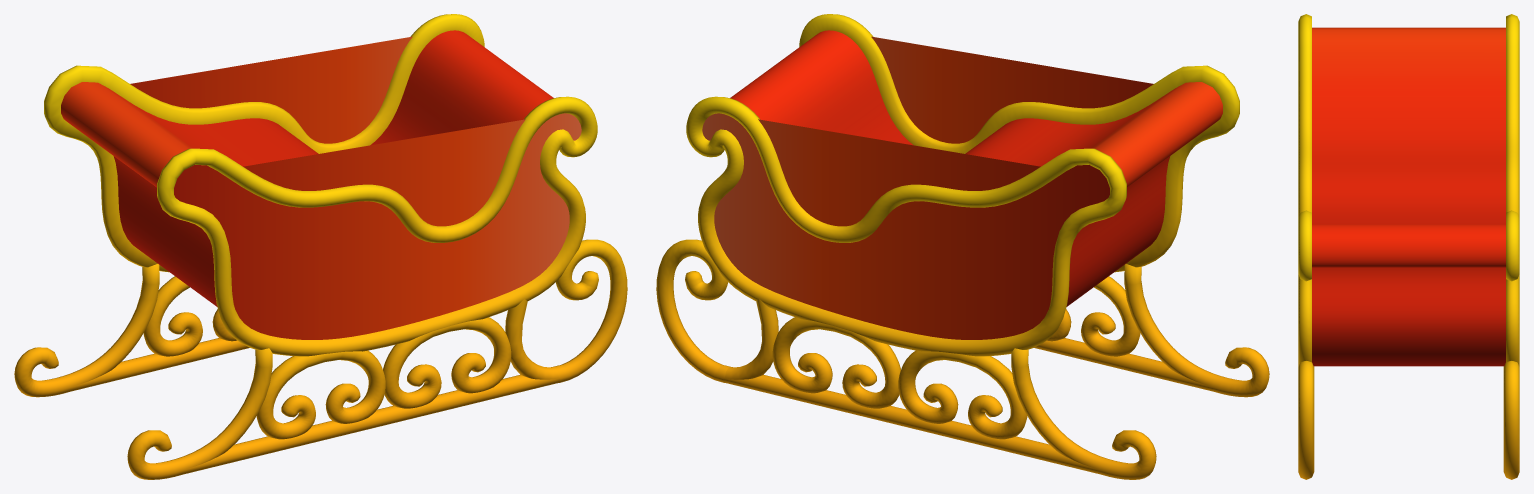
File: Sleigh_01.fbx
The picture shows the model from 3 angles, left to right: view 1: azimuth 30°, elevation 25°; view 2: azimuth 150°, elevation 25°; view 3: azimuth 270°, elevation 25°; orthographic projection. The views are drawn at different scales.
Visible parts, largest first — view 1: Sleigh_01; view 2: Sleigh_01; view 3: Sleigh_01.
Boxes of the visible parts, x1,y1,x2,y2 form: Sleigh_01: (14, 14, 627, 479); Sleigh_01: (656, 14, 1269, 479); Sleigh_01: (1298, 14, 1519, 479).
Size of the model in its own units: 178 by 111 by 75.62.
